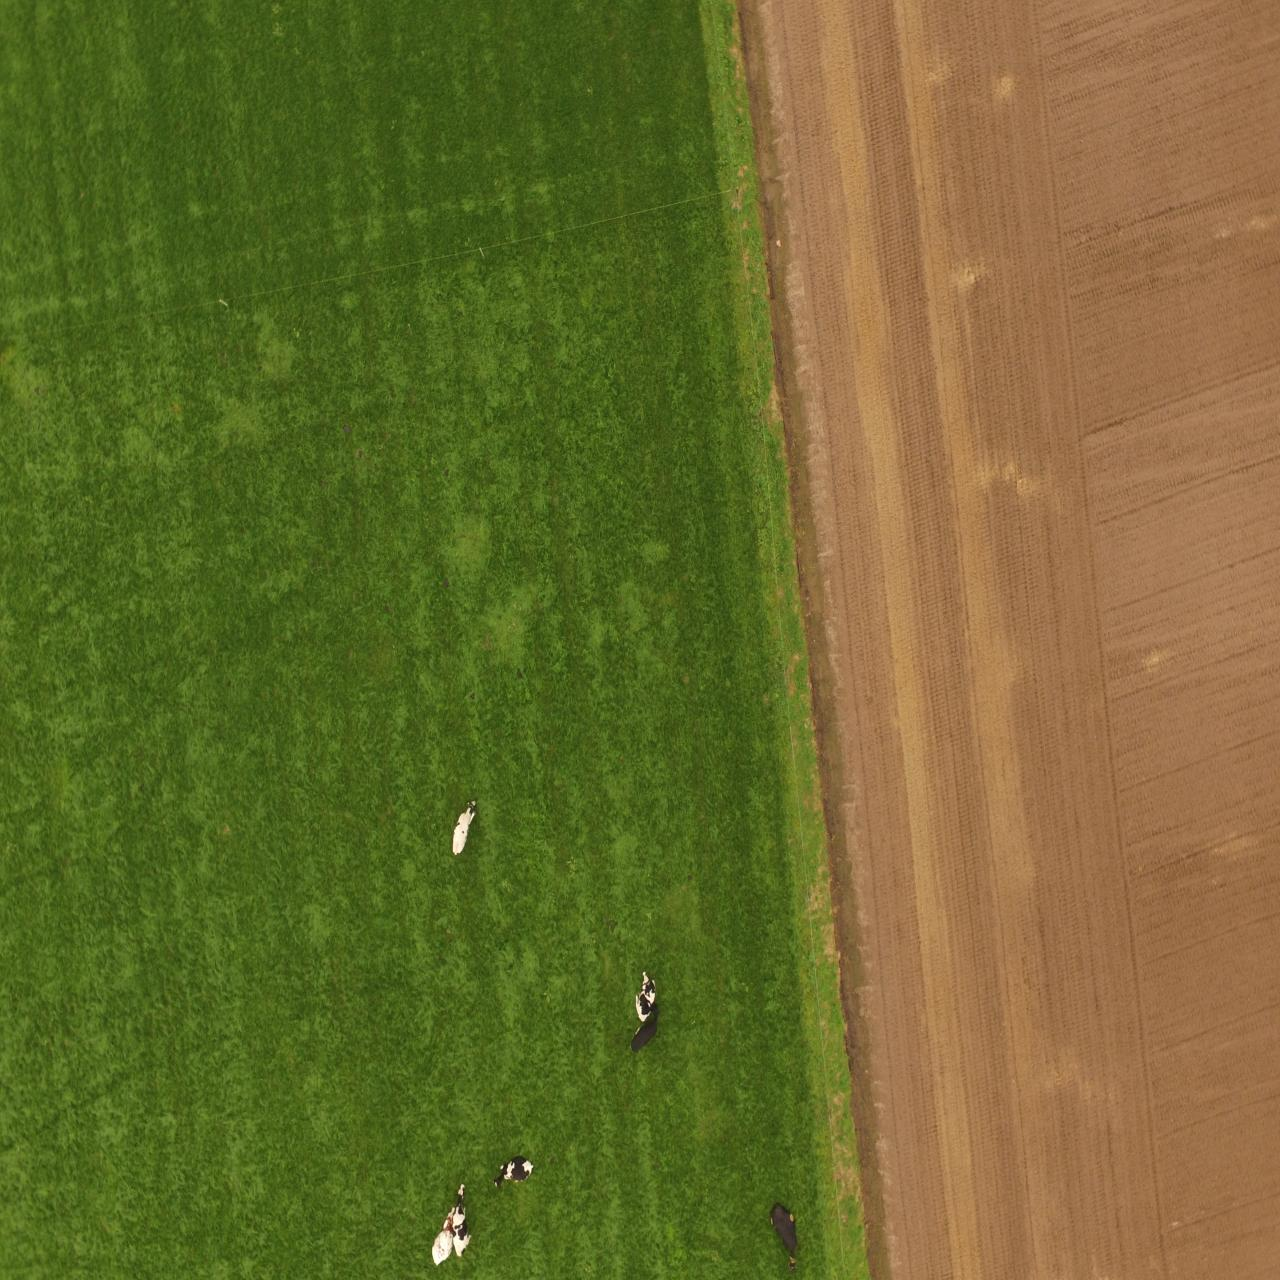cow: (452, 1178, 476, 1258), (765, 1202, 805, 1249), (629, 970, 663, 1022), (630, 1007, 662, 1061), (450, 797, 476, 857), (436, 1196, 455, 1268), (495, 1160, 539, 1190)
